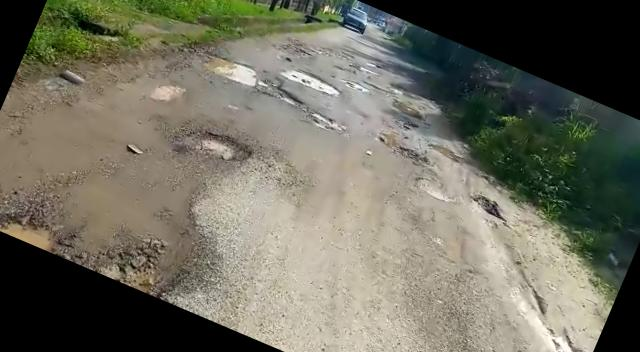pothole: (210, 54, 312, 114), (169, 114, 256, 177), (278, 60, 348, 101), (306, 110, 351, 140), (343, 78, 373, 96)
